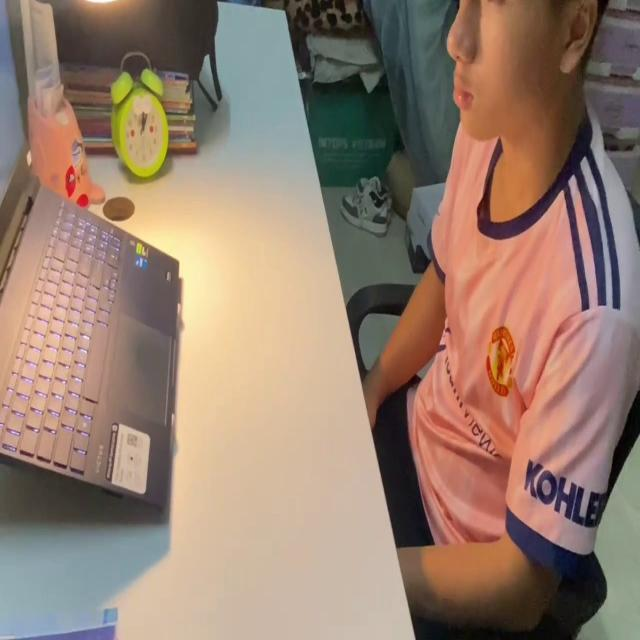laptop: (0, 0, 181, 515)
student: (350, 0, 640, 640)
